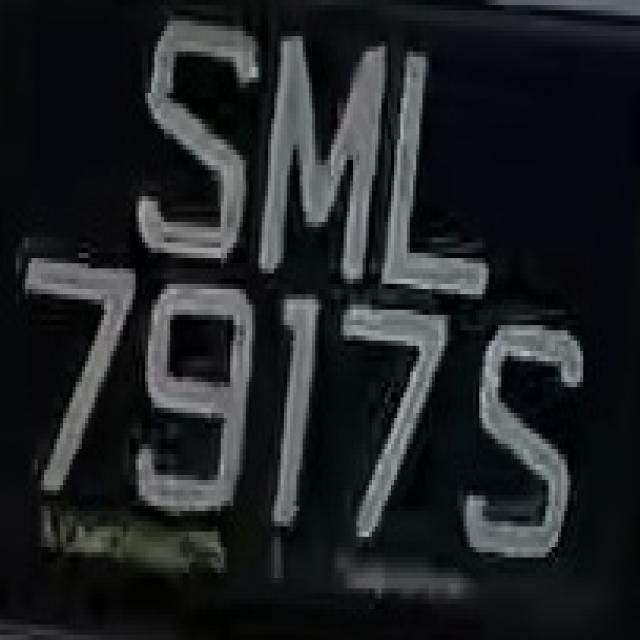1: (265, 284, 328, 562)
7: (12, 217, 136, 526), (325, 289, 454, 563)
9: (129, 243, 262, 547)
L: (388, 26, 508, 315)
M: (252, 26, 388, 310)
S: (136, 15, 258, 268), (473, 300, 589, 562)
